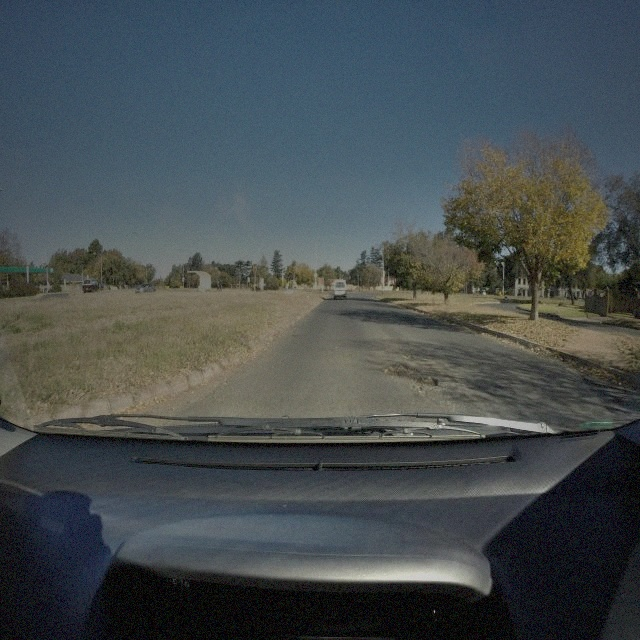pothole: (382, 362, 418, 378), (416, 374, 440, 388)
